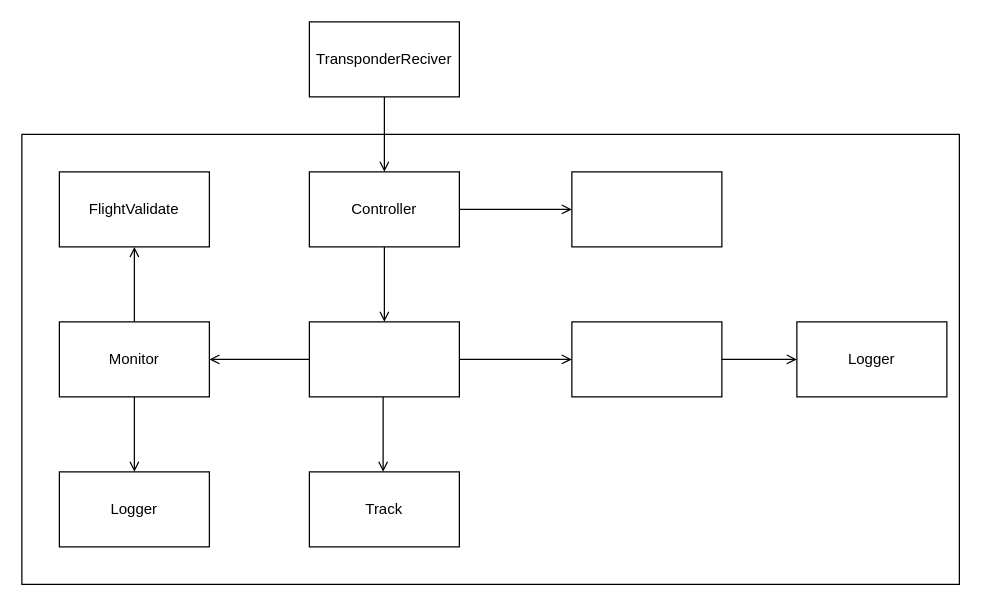
This 981x606 diagram has some shape labels left out. Each missing label, with the centre of its shape:
"Airspace" goes at [383,359].
"Decoder" goes at [646,209].
"SeperationChecker" goes at [646,359].
